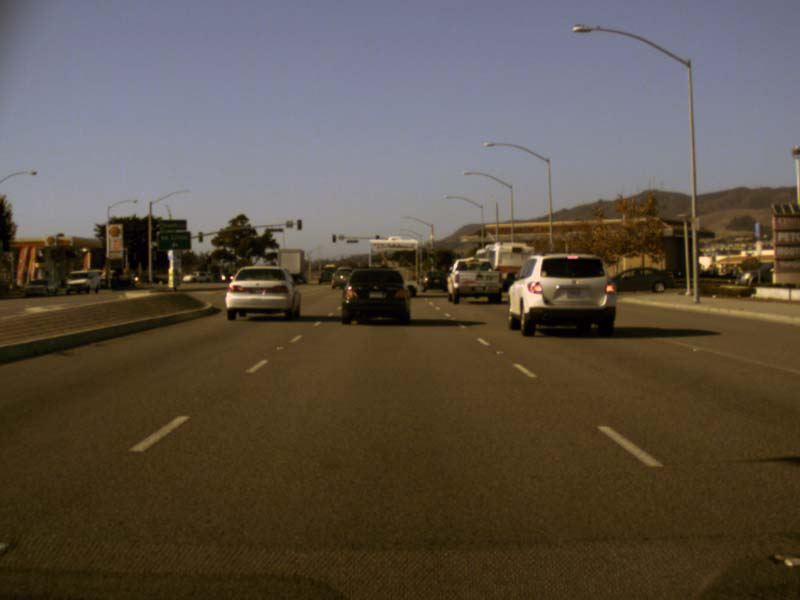Green: (428, 254, 433, 261)
